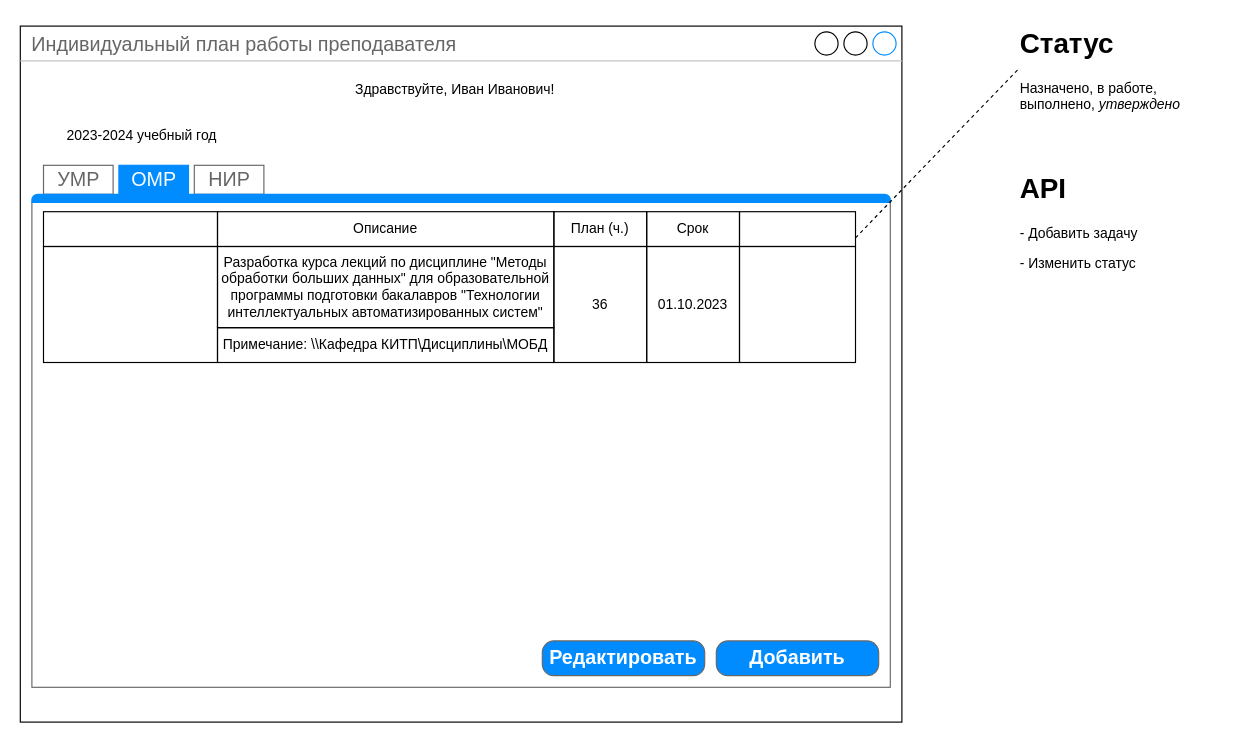
Some shapes in this 1247 by 742 pixel diagram are drawn without their labels. Each missing label, with the centre of its shape:
Вид работ: [129,228]
Выполнено: [796,303]
Разработка нового курса лекций: [129,303]
Статус: [796,228]
